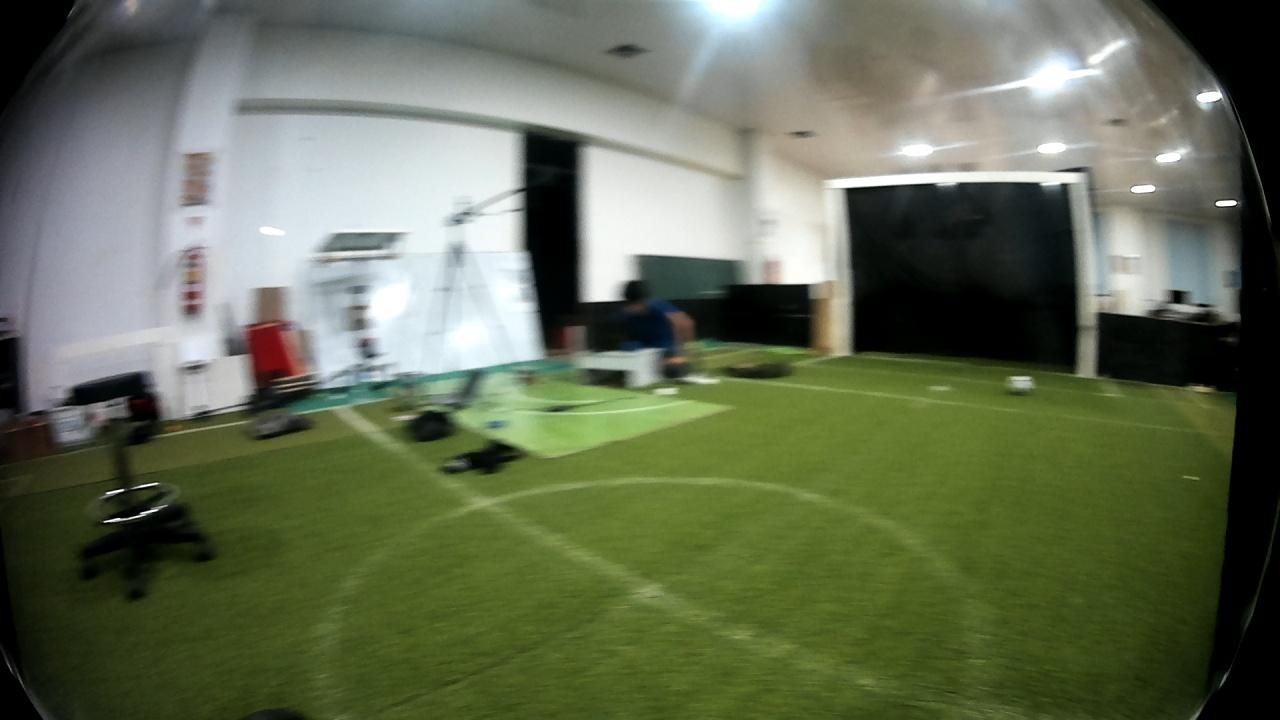ball: (1005, 372, 1036, 398)
